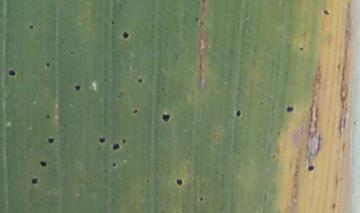tarspot: (285, 104, 294, 114), (161, 113, 171, 122), (7, 68, 17, 77), (111, 143, 122, 151), (121, 30, 130, 39), (117, 90, 125, 100), (321, 8, 330, 16), (38, 160, 47, 168), (46, 136, 55, 144), (175, 178, 183, 186), (73, 84, 81, 92), (144, 176, 151, 185), (235, 109, 241, 119), (307, 165, 315, 172), (298, 45, 305, 53), (28, 23, 35, 31), (98, 136, 105, 144), (31, 177, 39, 184), (44, 60, 50, 69), (132, 107, 138, 115), (271, 152, 277, 160), (200, 1, 208, 7), (335, 62, 341, 70), (45, 112, 50, 121), (137, 77, 143, 84), (197, 196, 204, 202), (198, 20, 204, 27), (69, 49, 75, 56), (258, 100, 264, 107), (194, 15, 199, 23), (111, 160, 116, 167), (121, 137, 126, 144), (110, 20, 115, 26)
